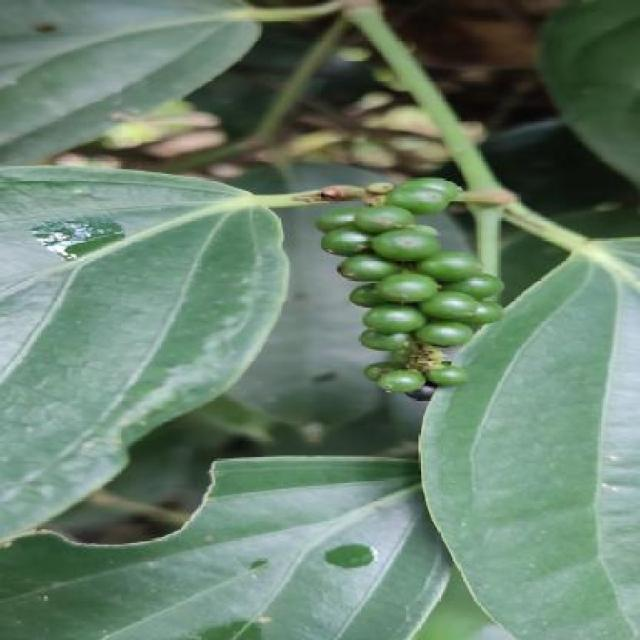UNRIPE: (319, 177, 506, 391)
